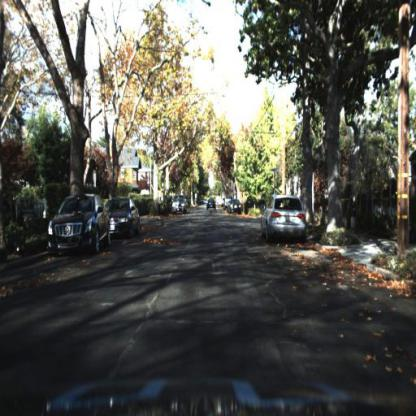car: (41, 188, 116, 264), (258, 187, 313, 250), (111, 189, 143, 252), (106, 195, 141, 241), (170, 193, 188, 217), (228, 198, 245, 219), (228, 196, 244, 217), (205, 196, 219, 212)
